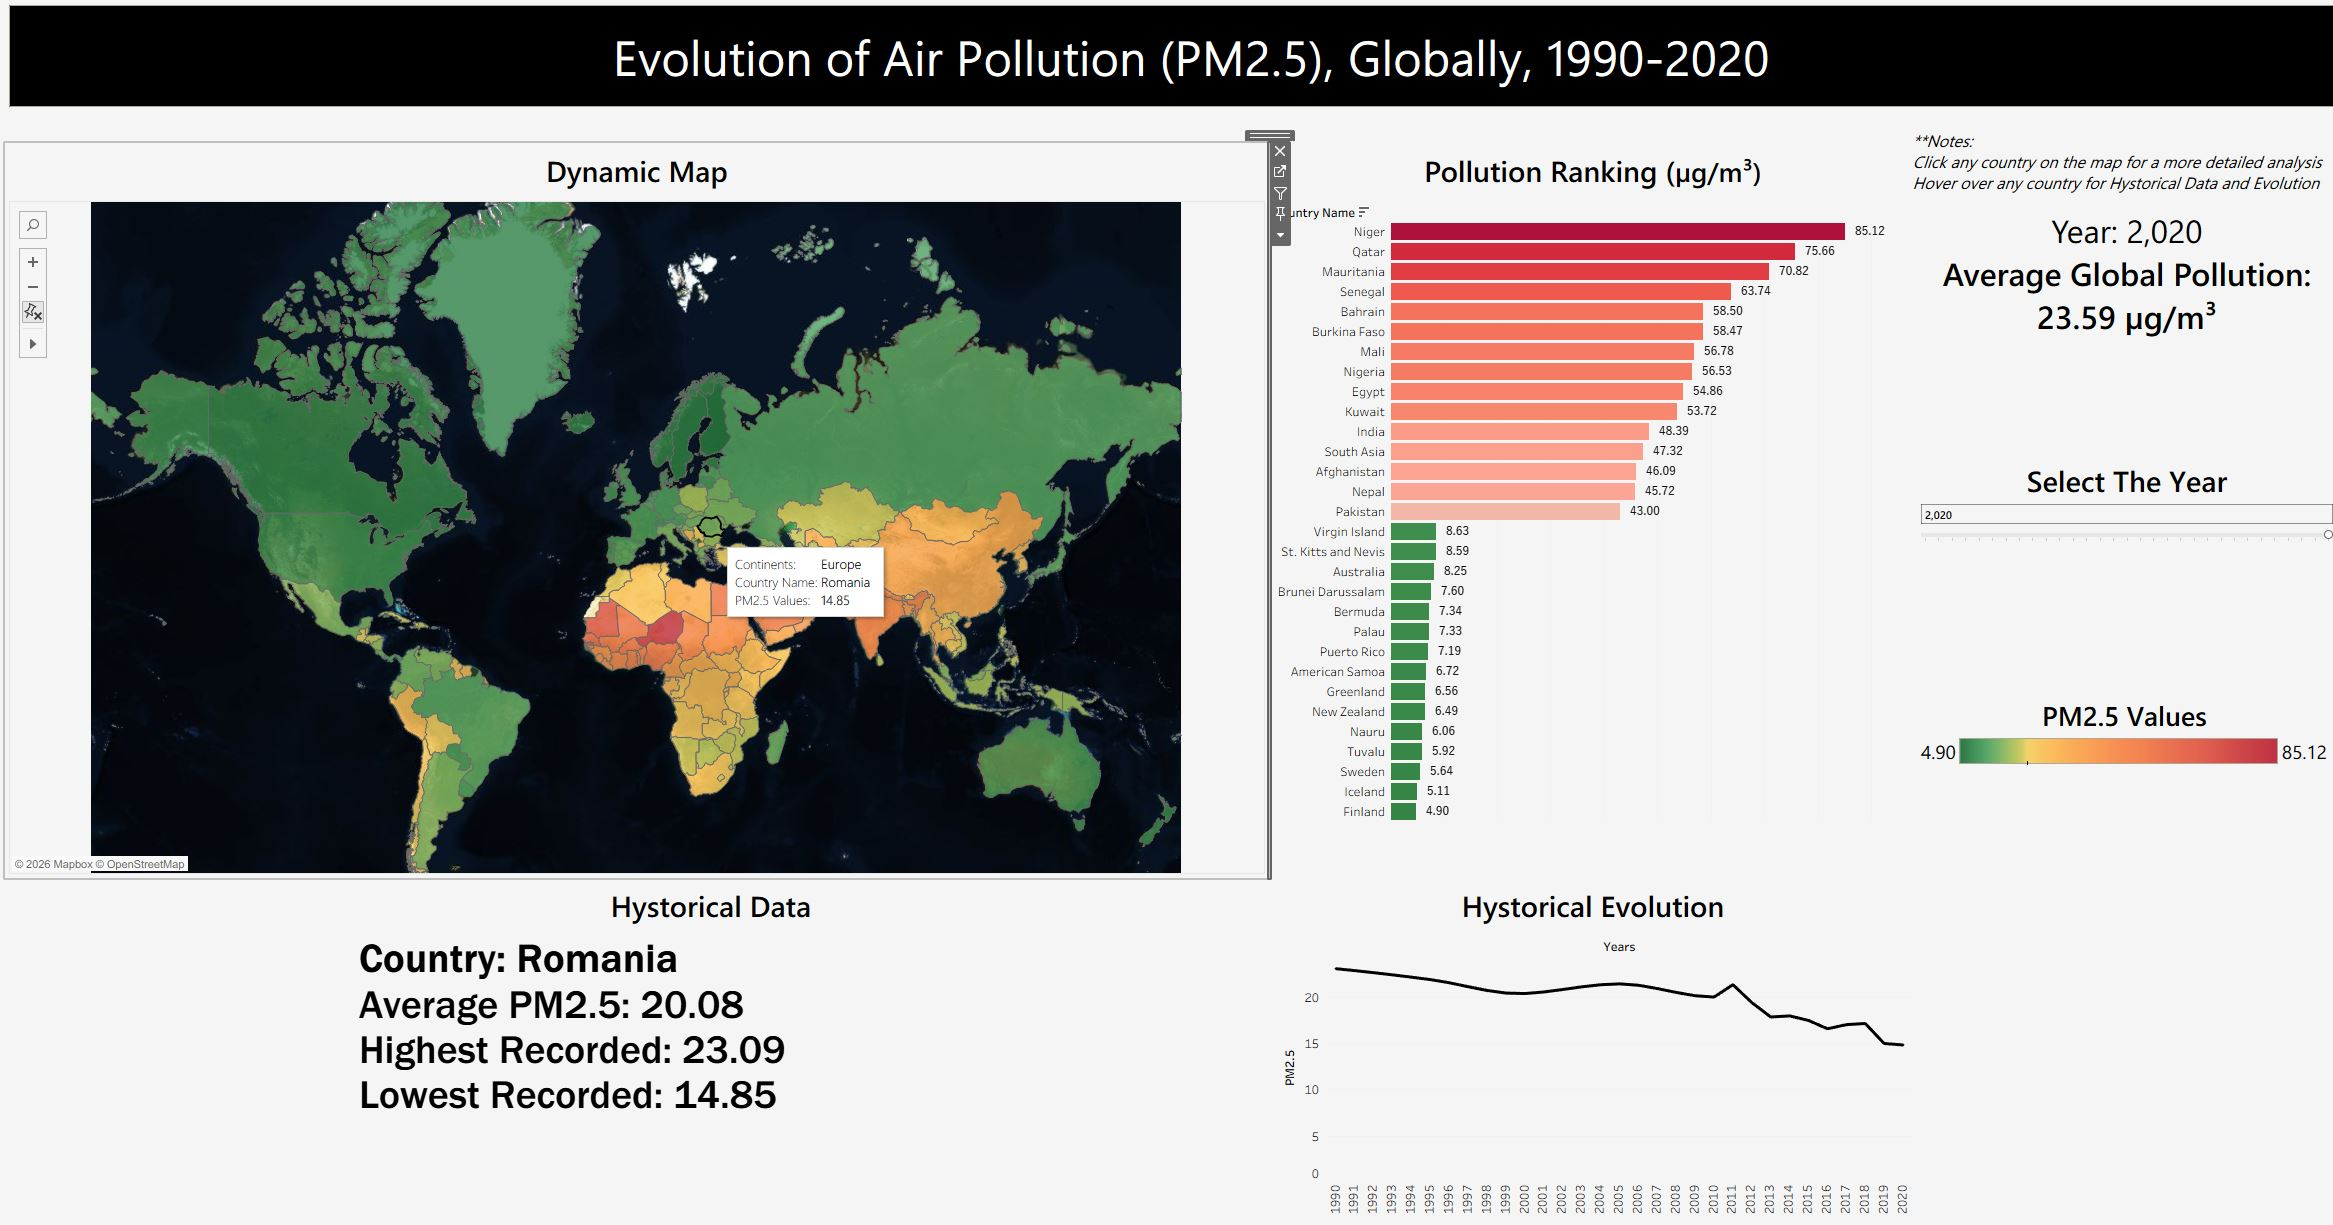

The dashboard page shown, as its layout file describes it:
{"tool":"tableau","page":{"name":"Dashboard 1","canvas":[1000,1000],"units":"permille","ordinal":0},"visuals":[{"type":"title","box":[3.4,6.5,993.2,89.1]},{"type":"blank","box":[3.4,95.6,993.2,25.9]},{"type":"worksheet","title":"Dynamic Map","mark":"Automatic","box":[3.4,121.5,538.1,595.6]},{"type":"worksheet","title":"Dynamic Continent","mark":"Multipolygon","box":[541.5,121.5,0.4,595.6]},{"type":"worksheet","title":"Pollution Ranking","mark":"Bar","rows":["Country Name"],"cols":["Calculation_1048775790069637123"],"box":[541.9,121.5,275,595.6]},{"type":"blank","box":[816.9,121.5,179.7,46]},{"type":"worksheet","title":"Global Means","mark":"Automatic","box":[816.9,167.6,179.7,134.3]},{"type":"blank","box":[816.9,301.9,179.7,415.3]},{"type":"parameter","param":"[Parameters].[Parameter 1]","box":[817.8,379.2,178,81]},{"type":"legend","title":"Dynamic Map","param":"[federated.039qh2g06r4w1p1c8pc20071rm1b].[sum:Calculation_1048775790069637123:qk","box":[817.4,570.5,176.7,61.6]},{"type":"blank","box":[3.4,717.2,147.3,276.3]},{"type":"worksheet","title":"General Statistics","mark":"Text","box":[150.7,717.2,307.4,276.3]},{"type":"blank","box":[458.1,717.2,83.9,276.3]},{"type":"worksheet","title":"Evolution","mark":"Line","rows":["Pivot Field Values"],"cols":["Pivot Field Names"],"box":[541.9,717.2,275,276.3]},{"type":"blank","box":[816.9,717.2,179.7,276.3]}]}

Visuals, with their boxes on the dashboard's canvas, which has no fixed pixel size, in thousandths of its width and height (x1, y1, x2, y2). These are canvas units, not pixel positions in the 2333x1225 screenshot, which may show the page scaled, cropped or inside an application window:
title: (x1=3, y1=6, x2=997, y2=96)
blank: (x1=3, y1=96, x2=997, y2=122)
"Dynamic Map" worksheet: (x1=3, y1=122, x2=542, y2=717)
"Dynamic Continent" worksheet (Multipolygon marks): (x1=542, y1=122, x2=542, y2=717)
"Pollution Ranking" worksheet (Bar marks): (x1=542, y1=122, x2=817, y2=717)
blank: (x1=817, y1=122, x2=997, y2=168)
"Global Means" worksheet: (x1=817, y1=168, x2=997, y2=302)
blank: (x1=817, y1=302, x2=997, y2=717)
parameter: (x1=818, y1=379, x2=996, y2=460)
"Dynamic Map" legend: (x1=817, y1=570, x2=994, y2=632)
blank: (x1=3, y1=717, x2=151, y2=994)
"General Statistics" worksheet (Text marks): (x1=151, y1=717, x2=458, y2=994)
blank: (x1=458, y1=717, x2=542, y2=994)
"Evolution" worksheet (Line marks): (x1=542, y1=717, x2=817, y2=994)
blank: (x1=817, y1=717, x2=997, y2=994)
